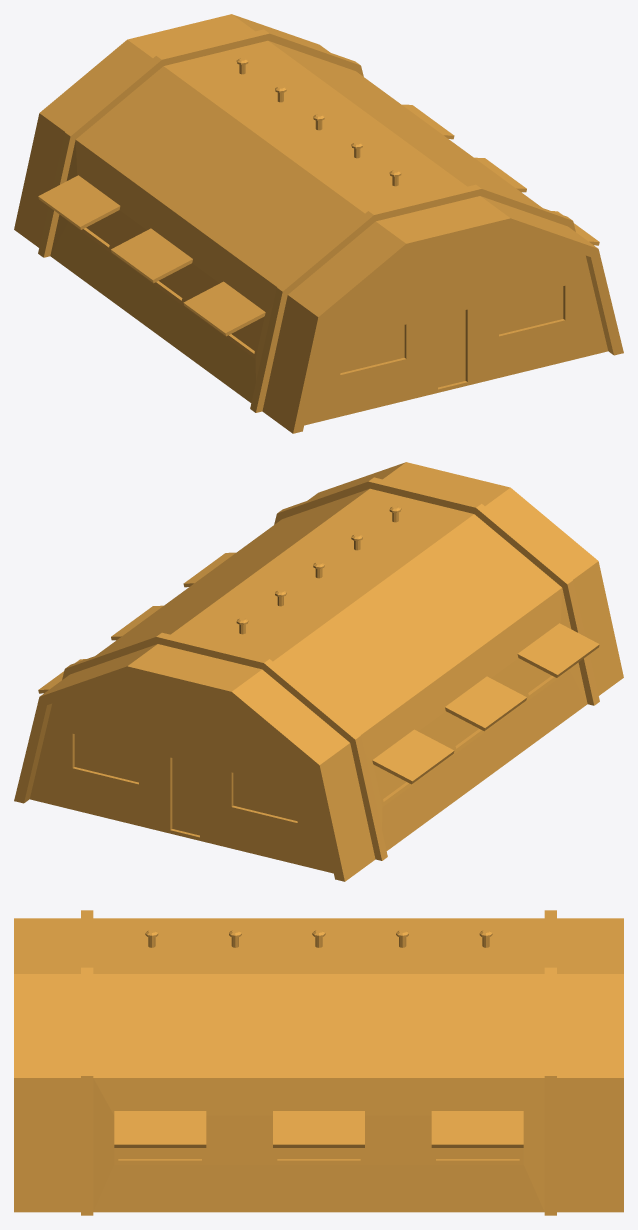
The model's file is military-barracks.fbx.
3 views of the same model, one above another, from view 1: azimuth 30°, elevation 25°; view 2: azimuth 150°, elevation 25°; view 3: azimuth 270°, elevation 25° (orthographic). The views are drawn at different scales.
Visible parts, largest first — view 1: military-barracks; view 2: military-barracks; view 3: military-barracks.
Boxes of the visible parts, left/top/right/bottom form: military-barracks: left=14, top=14, right=623, bottom=433; military-barracks: left=14, top=462, right=623, bottom=881; military-barracks: left=14, top=910, right=623, bottom=1215.
Size of the model in its own units: 11.31 by 5.08 by 14.6.
